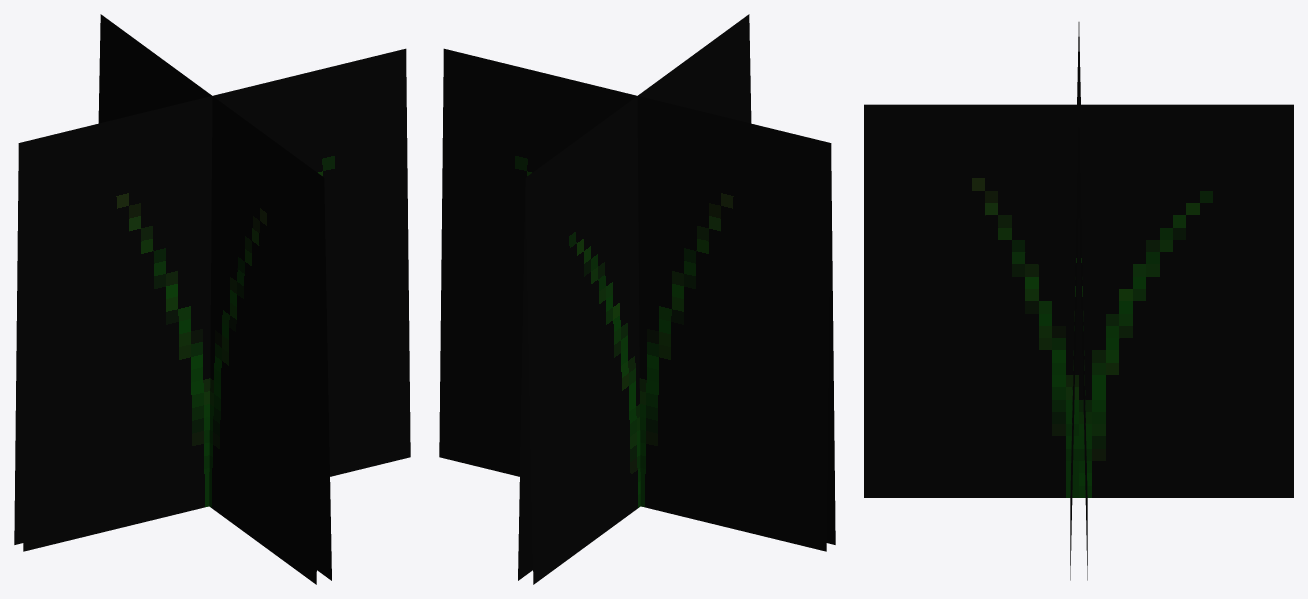
Rendered from grass08.glb.
3 views of the same model, side by side, from view 1: azimuth 30°, elevation 25°; view 2: azimuth 150°, elevation 25°; view 3: azimuth 270°, elevation 25° (orthographic). The views are drawn at different scales.
Visible parts, largest first — view 1: grass8; view 2: grass8; view 3: grass8.
Part boxes in pixels (x1,y1,x2,y2): grass8: (14,14,410,584); grass8: (439,14,835,584); grass8: (864,22,1293,580).
Size of the model in its own units: 0.5 by 0.5 by 0.5.
Materials: 1 (1 with a texture image).
